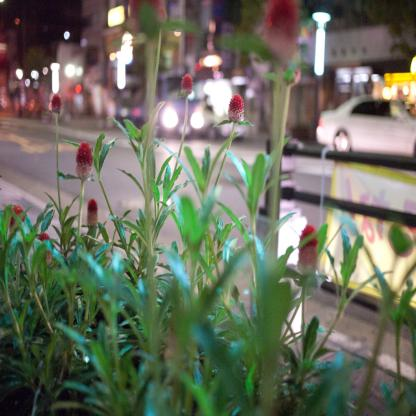Car: (314, 84, 412, 162)
